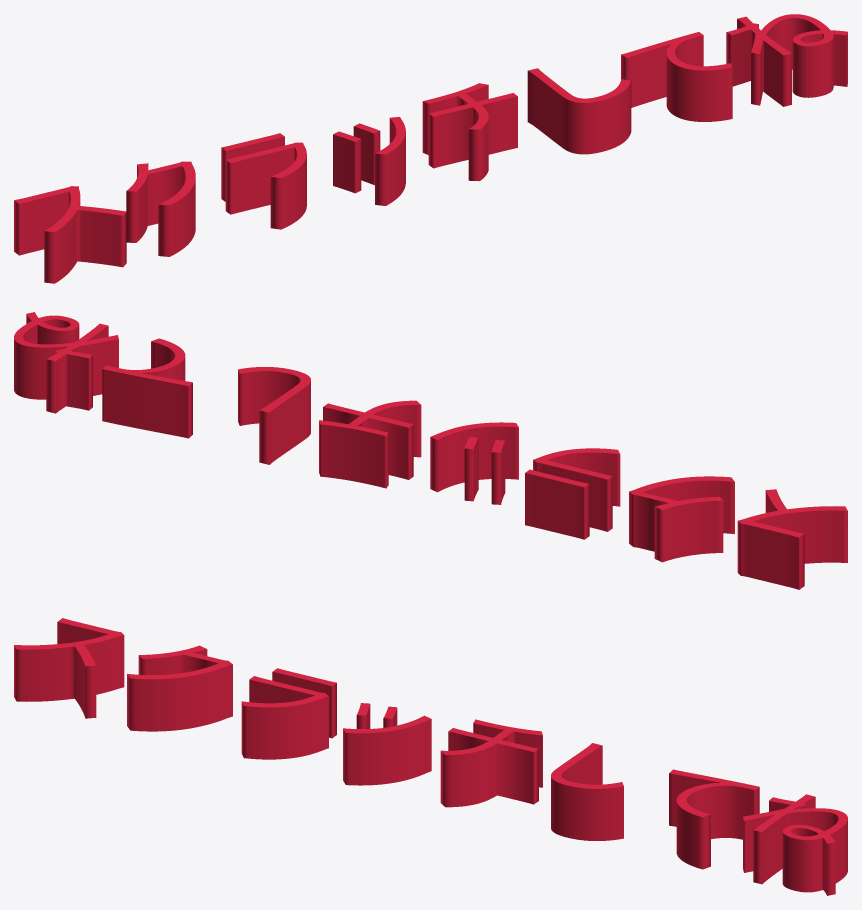
Rendered from letter.glb.
3 views of the same model, one above another, from view 1: azimuth 30°, elevation 25°; view 2: azimuth 150°, elevation 25°; view 3: azimuth 330°, elevation 25° (orthographic).
Visible parts, largest first — view 1: テキスト.001; view 2: テキスト.001; view 3: テキスト.001.
Boxes of the visible parts, left/top/right/bottom form: テキスト.001: left=14, top=14, right=847, bottom=283; テキスト.001: left=14, top=312, right=847, bottom=589; テキスト.001: left=14, top=618, right=847, bottom=895.
Size of the model in its own units: 7.87 by 0.48 by 0.882.
